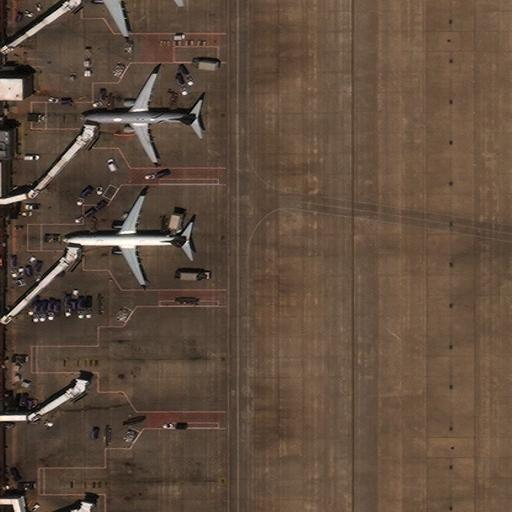Large Civil Transport: (61, 0, 169, 37)
Medium Civil Transport: (62, 195, 192, 284), (79, 72, 201, 163)
